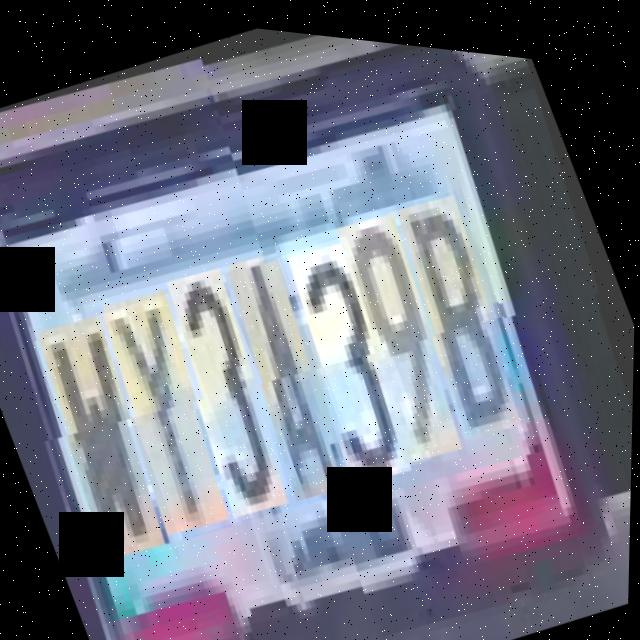3: (274, 222, 438, 478), (157, 259, 317, 520)
9: (322, 192, 488, 455)
A: (218, 243, 374, 501)
B: (384, 173, 547, 429)
W: (30, 310, 197, 568)
Y: (93, 283, 260, 541)
